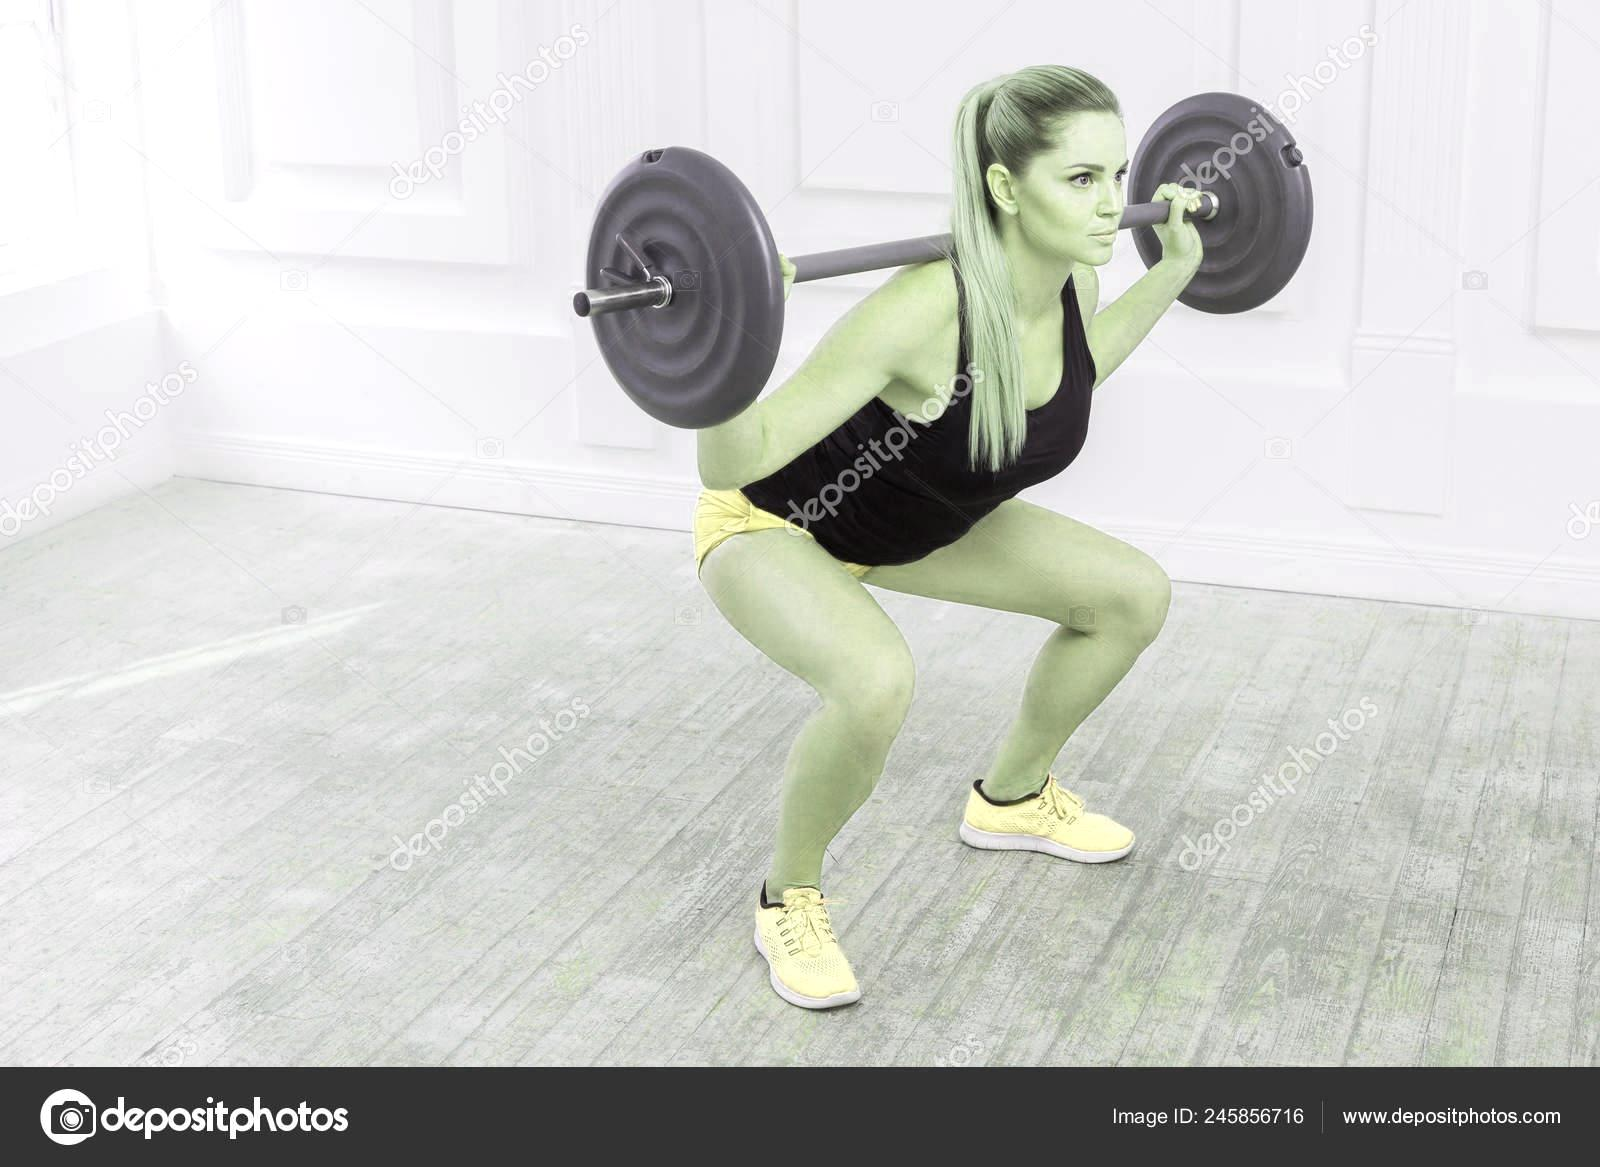Barbell: (561, 280, 605, 338)
